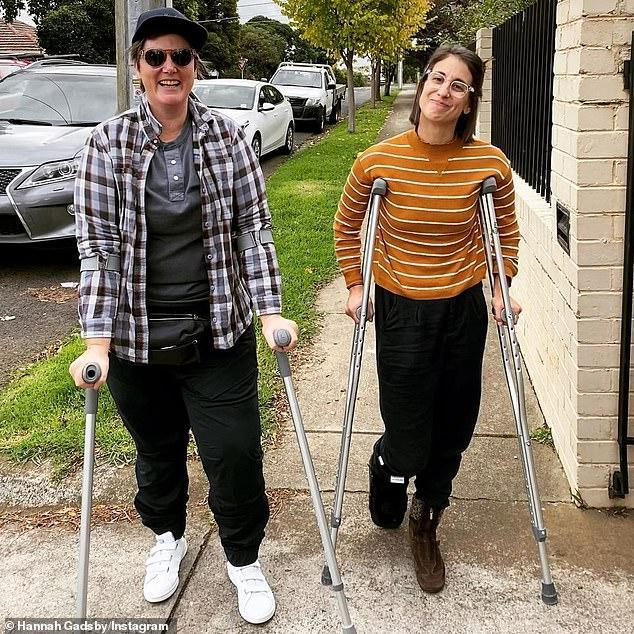crutches: (67, 6, 326, 634), (330, 40, 558, 605)
